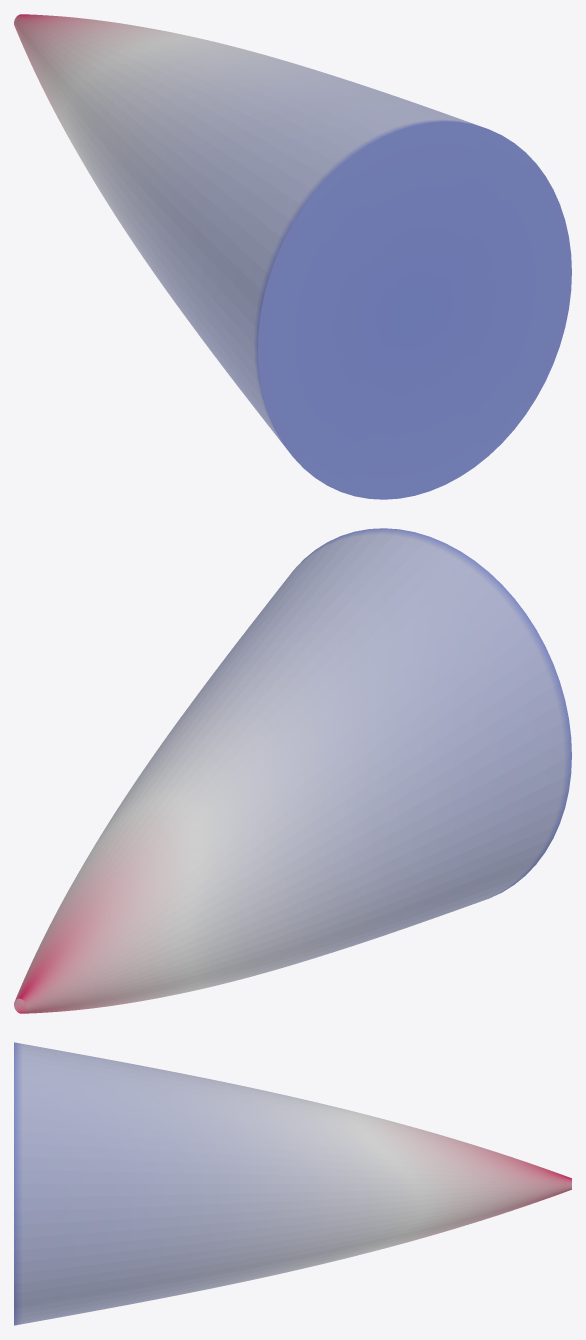
File: frame_003_unlit.glb
3 views of the same model, one above another, from view 1: azimuth 30°, elevation 25°; view 2: azimuth 150°, elevation 25°; view 3: azimuth 270°, elevation 25° (orthographic). The views are drawn at different scales.
Parts seen in each view (by area): view 1: geometry_0; view 2: geometry_0; view 3: geometry_0.
Part boxes in pixels (x1,y1,x2,y2): geometry_0: (14,14,571,499); geometry_0: (14,528,571,1013); geometry_0: (14,1042,571,1325).
Bounding box in the file's own units: 0.4596 × 0.5177 × 1.
